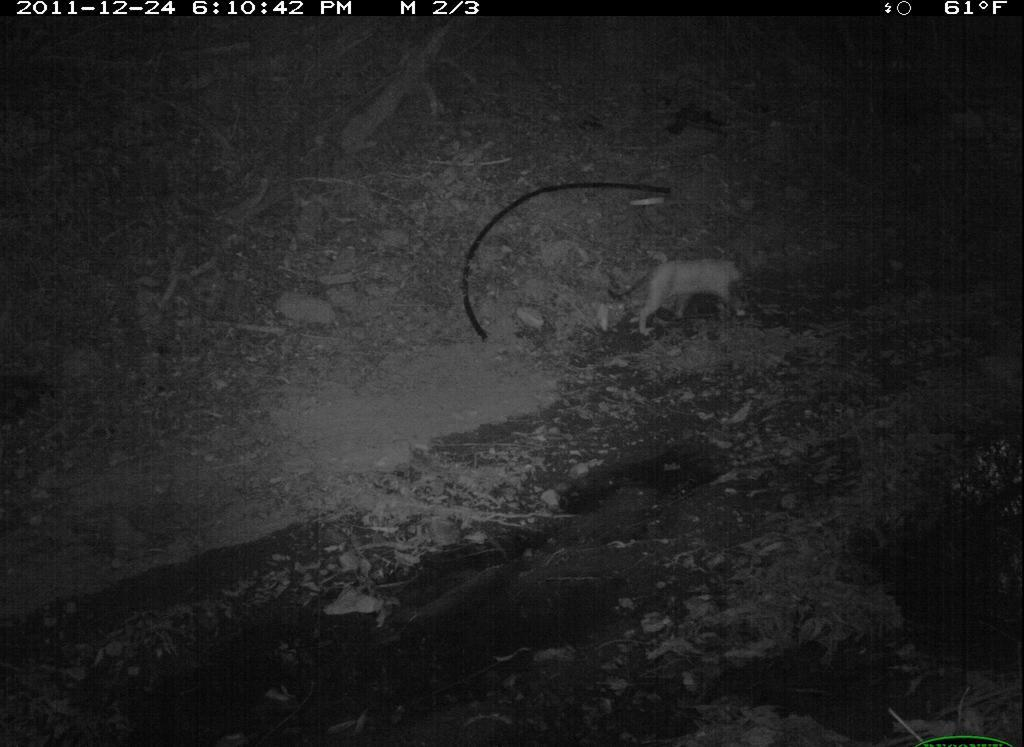cat: (607, 255, 749, 337)
